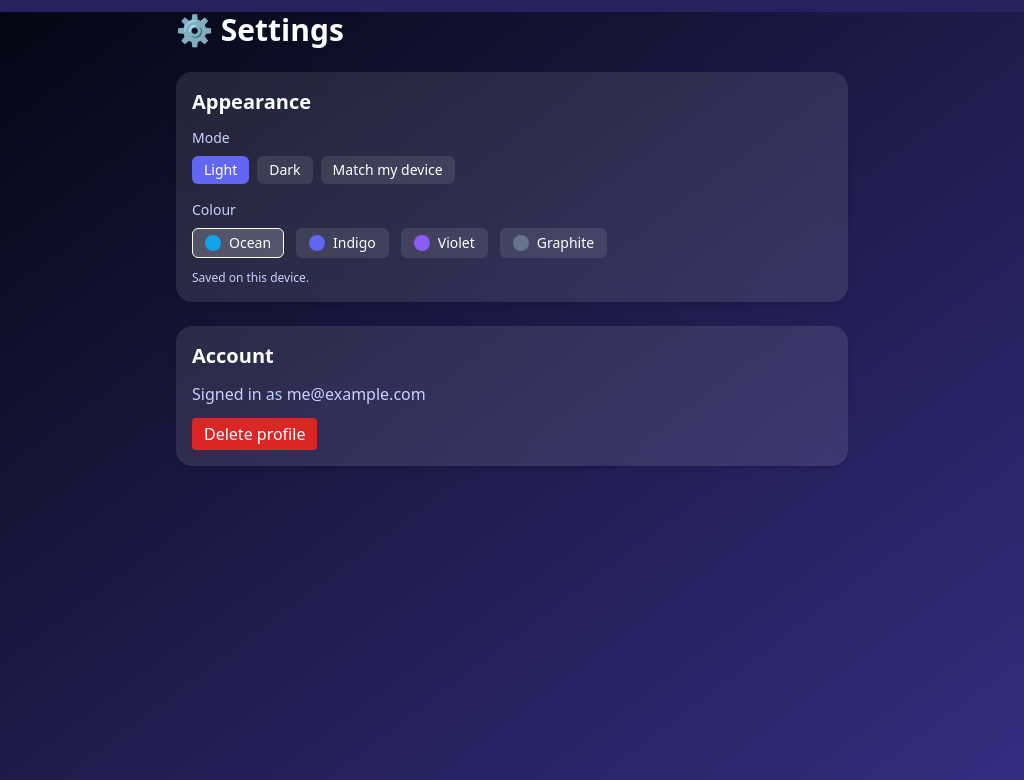
Test: Settings page › deleting the profile › only allows deleting once DELETE is typed exactly
The image size is (1024, 780).
Click the button "Delete profile".
click(255, 434)  # box [192,418,317,450]
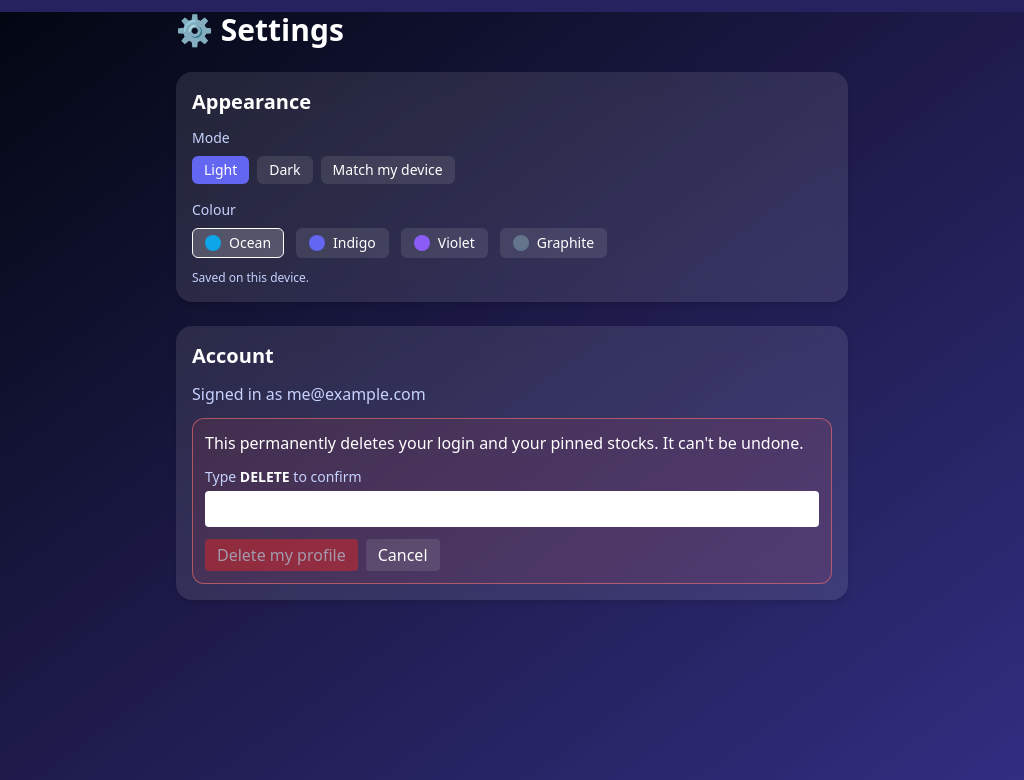
Expected: the button "Delete my profile" is disabled, [205,539,358,571]
Type "delete" into the field.
click(512, 509); type("delete")  # box [205,491,819,527]
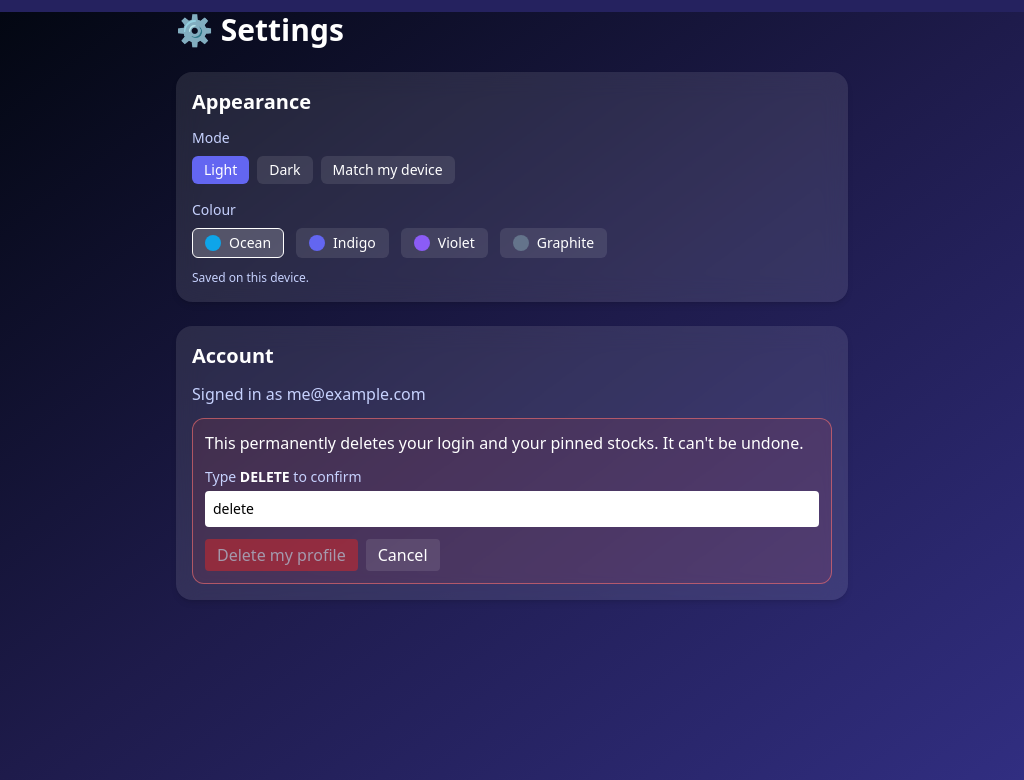
Expected: the button "Delete my profile" is disabled, [205,539,358,571]
Replace the text in the field with "DELETE" at (512,509), box [205,491,819,527]
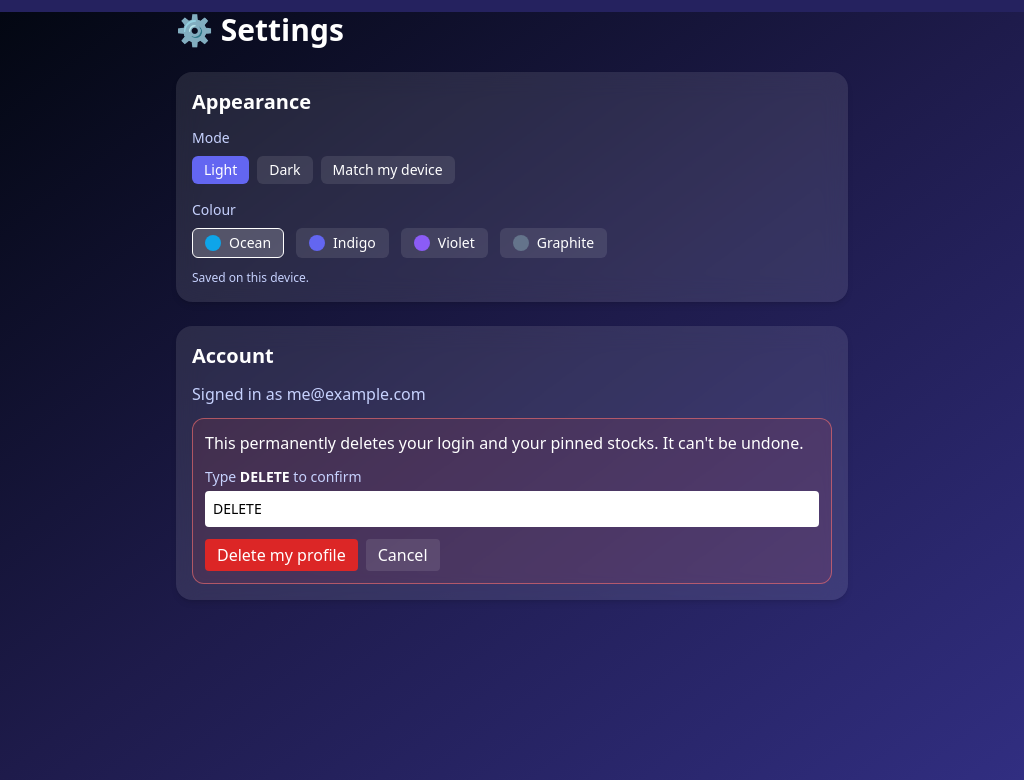
Expected: the button "Delete my profile" is enabled, [205,539,358,571]
